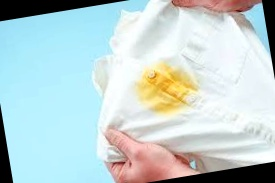mustard: (140, 65, 193, 110)
